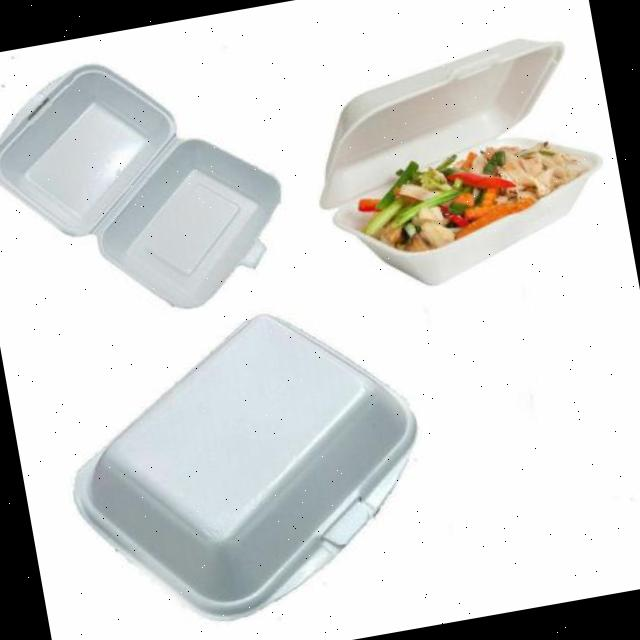styrofoam: (44, 287, 445, 640), (0, 31, 299, 338), (295, 24, 619, 303)
